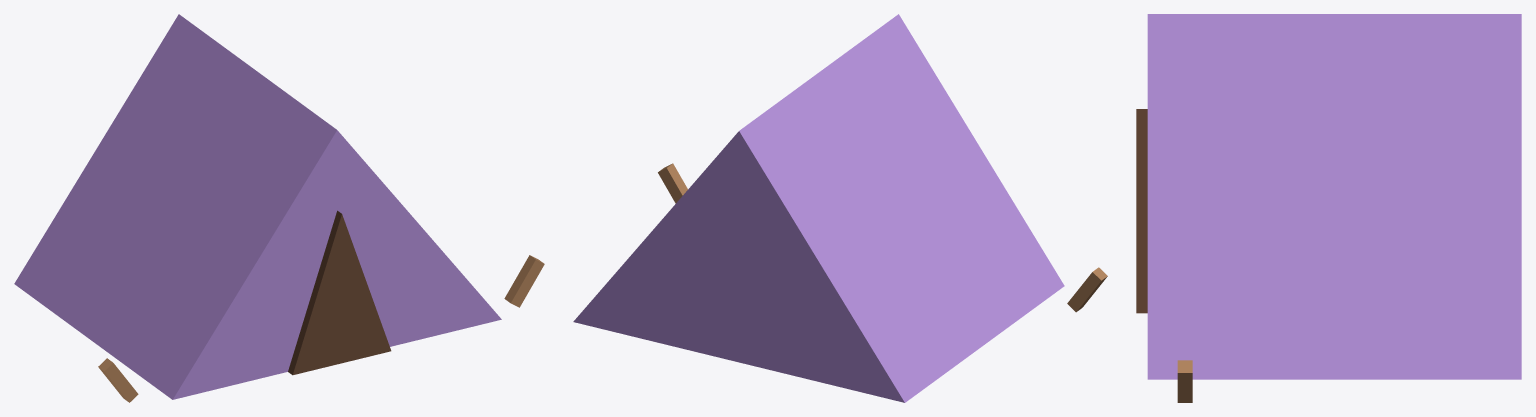
File: deco_tent.obj
3 views of the same model, side by side, from view 1: azimuth 30°, elevation 25°; view 2: azimuth 150°, elevation 25°; view 3: azimuth 270°, elevation 25° (orthographic). The views are drawn at different scales.
Visible parts, largest first — view 1: deco_tent; view 2: deco_tent; view 3: deco_tent.
Part boxes in pixels (x1,y1,x2,y2): deco_tent: (14, 14, 544, 402); deco_tent: (573, 14, 1107, 402); deco_tent: (1136, 14, 1521, 402).
Size of the model in its own units: 0.0802 by 0.0408 by 0.0515.
Materials: 1 (1 with a texture image).
